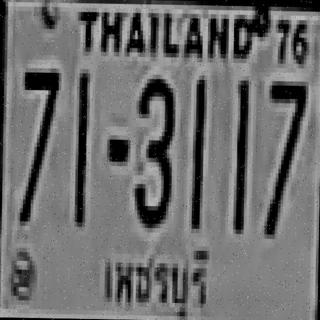N01: (73, 71, 89, 224), (189, 75, 204, 229), (232, 78, 247, 232)
N03: (132, 74, 176, 225)
N07: (264, 76, 306, 235), (18, 67, 58, 222)
P44: (95, 242, 215, 318)
